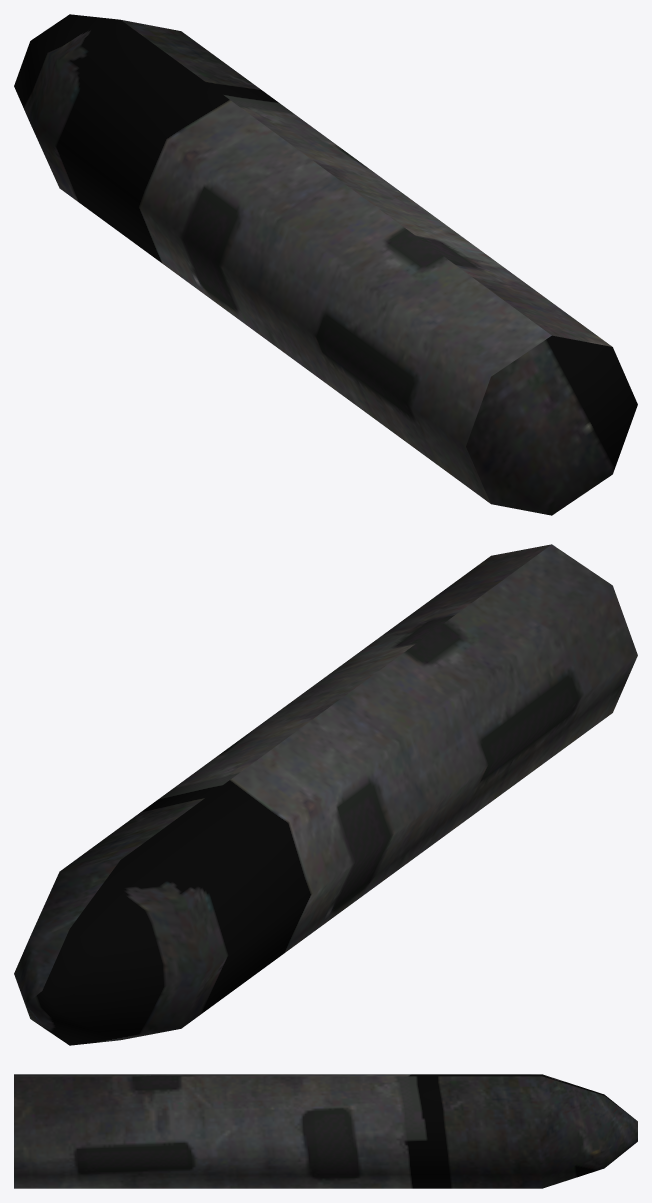
File: spacejunk9.fbx
The picture shows the model from 3 angles, top to bottom: view 1: azimuth 30°, elevation 25°; view 2: azimuth 150°, elevation 25°; view 3: azimuth 270°, elevation 25°; orthographic projection. The views are drawn at different scales.
Parts seen in each view (by area): view 1: PipelineFBX; view 2: PipelineFBX; view 3: PipelineFBX.
Part boxes in pixels (left/top/right/bottom): PipelineFBX: left=14, top=14, right=637, bottom=515; PipelineFBX: left=14, top=544, right=637, bottom=1045; PipelineFBX: left=14, top=1074, right=637, bottom=1188.
Size of the model in its own units: 15.32 by 15.32 by 78.58.
Materials: 1 (1 with a texture image).
